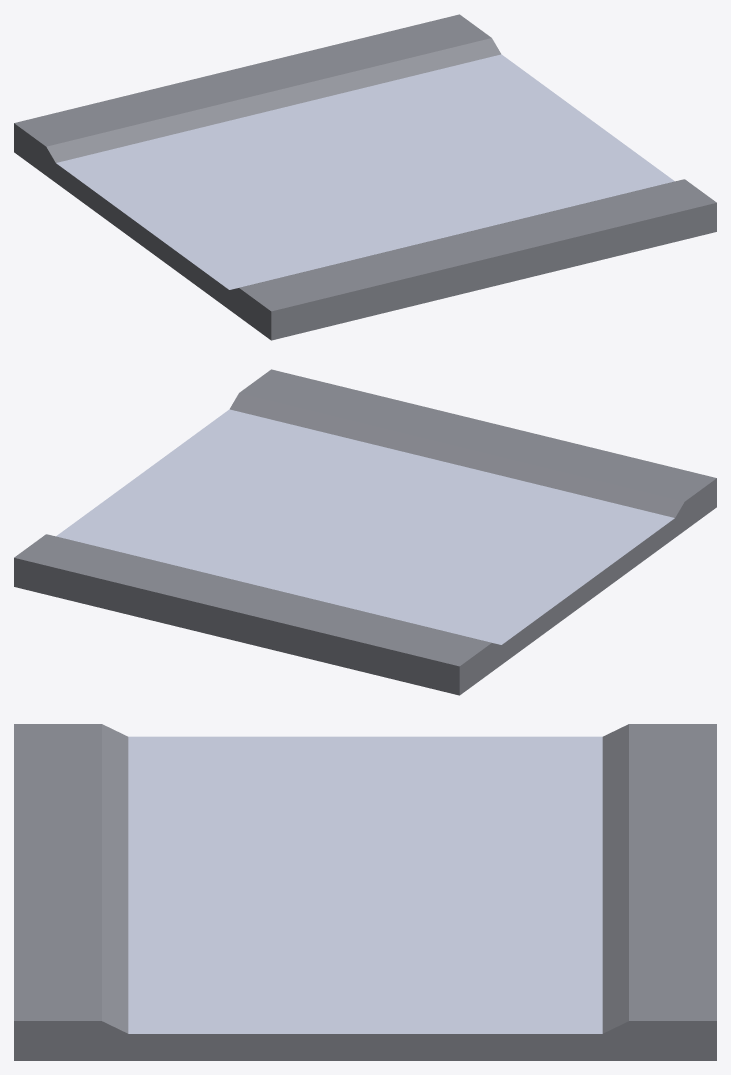
The model's file is spaceInterior_067.obj.
The picture shows the model from 3 angles, top to bottom: view 1: azimuth 30°, elevation 25°; view 2: azimuth 150°, elevation 25°; view 3: azimuth 270°, elevation 25°; orthographic projection. The views are drawn at different scales.
Parts seen in each view (by area): view 1: Mesh1 Group1 Model; view 2: Mesh1 Group1 Model; view 3: Mesh1 Group1 Model.
Boxes of the visible parts, <box> form: Mesh1 Group1 Model: <box>14,14,716,340</box>; Mesh1 Group1 Model: <box>14,369,716,695</box>; Mesh1 Group1 Model: <box>14,724,716,1060</box>.
Bounding box in the file's own units: 1 × 0.0625 × 1.
